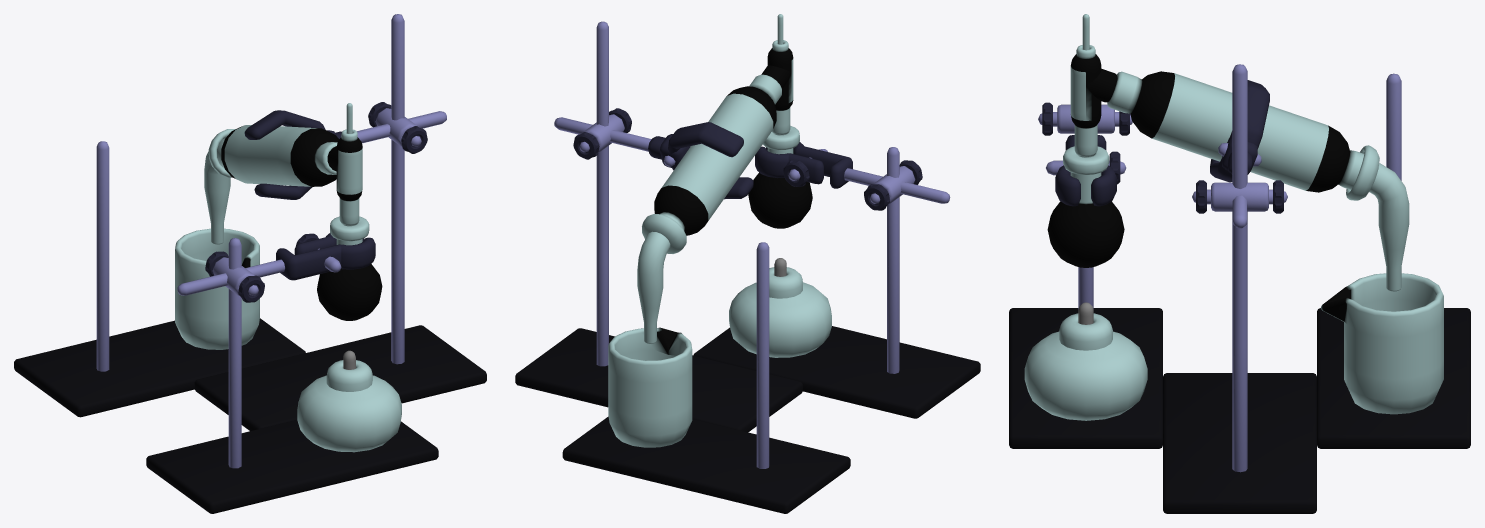
Rendered from LastLuna_Model_Station_Distiller.fbx.
3 views of the same model, side by side, from view 1: azimuth 30°, elevation 25°; view 2: azimuth 150°, elevation 25°; view 3: azimuth 270°, elevation 25° (orthographic). The views are drawn at different scales.
Parts seen in each view (by area): view 1: Stand_Base001, Stand_Base002, Stand_Base003, Alcohol_Lamp001, Beaker001, Condenser001, Stand_Pole_Tall001, Flask_Round001, Stand_Pole002, Stand_Pole001, Thermometerx001, Stand_Arm_Clamp_Base001 (+9 smaller); view 2: Stand_Base002, Stand_Base001, Stand_Base003, Beaker001, Condenser001, Alcohol_Lamp001, Stand_Pole_Tall001, Receiver001, Flask_Round001, Stand_Pole002, Stand_Pole001, Thermometerx001 (+10 smaller); view 3: Stand_Base003, Condenser001, Beaker001, Stand_Base001, Stand_Base002, Alcohol_Lamp001, Stand_Pole_Tall001, Flask_Round001, Receiver001, Thermometerx001, Stand_Fixture002, Stand_Pole002 (+8 smaller).
Part boxes in pixels (left/top/right/bottom): Stand_Base001: left=146, top=420, right=438, bottom=513; Stand_Base002: left=14, top=318, right=305, bottom=417; Stand_Base003: left=194, top=325, right=486, bottom=430; Alcohol_Lamp001: left=297, top=360, right=401, bottom=452; Beaker001: left=175, top=228, right=259, bottom=349; Condenser001: left=217, top=125, right=339, bottom=186; Stand_Pole_Tall001: left=391, top=14, right=404, bottom=364; Flask_Round001: left=317, top=216, right=382, bottom=320; Stand_Pole002: left=96, top=141, right=109, bottom=371; Stand_Pole001: left=228, top=238, right=241, bottom=468; Thermometerx001: left=327, top=103, right=362, bottom=226; Stand_Arm_Clamp_Base001: left=276, top=237, right=375, bottom=280; Stand_Base002: left=562, top=416, right=850, bottom=513; Stand_Base001: left=693, top=326, right=980, bottom=418; Stand_Base003: left=515, top=328, right=802, bottom=432; Beaker001: left=608, top=327, right=692, bottom=447; Condenser001: left=654, top=74, right=781, bottom=235; Alcohol_Lamp001: left=729, top=267, right=831, bottom=357; Stand_Pole_Tall001: left=596, top=21, right=608, bottom=366; Receiver001: left=637, top=213, right=686, bottom=343; Flask_Round001: left=748, top=126, right=812, bottom=228; Stand_Pole002: left=756, top=242, right=769, bottom=468; Stand_Pole001: left=887, top=147, right=899, bottom=373; Thermometerx001: left=761, top=14, right=793, bottom=135; Stand_Base003: left=1163, top=373, right=1316, bottom=513; Condenser001: left=1107, top=71, right=1364, bottom=192; Beaker001: left=1321, top=273, right=1443, bottom=414; Stand_Base001: left=1009, top=308, right=1162, bottom=448; Stand_Base002: left=1317, top=308, right=1470, bottom=448; Alcohol_Lamp001: left=1024, top=313, right=1147, bottom=420; Stand_Pole_Tall001: left=1232, top=64, right=1247, bottom=472; Flask_Round001: left=1047, top=146, right=1124, bottom=267; Receiver001: left=1346, top=145, right=1409, bottom=291; Thermometerx001: left=1070, top=14, right=1117, bottom=157; Stand_Fixture002: left=1192, top=182, right=1287, bottom=211; Stand_Pole002: left=1386, top=73, right=1401, bottom=180.
Size of the model in its own units: 300 by 300 by 300.
